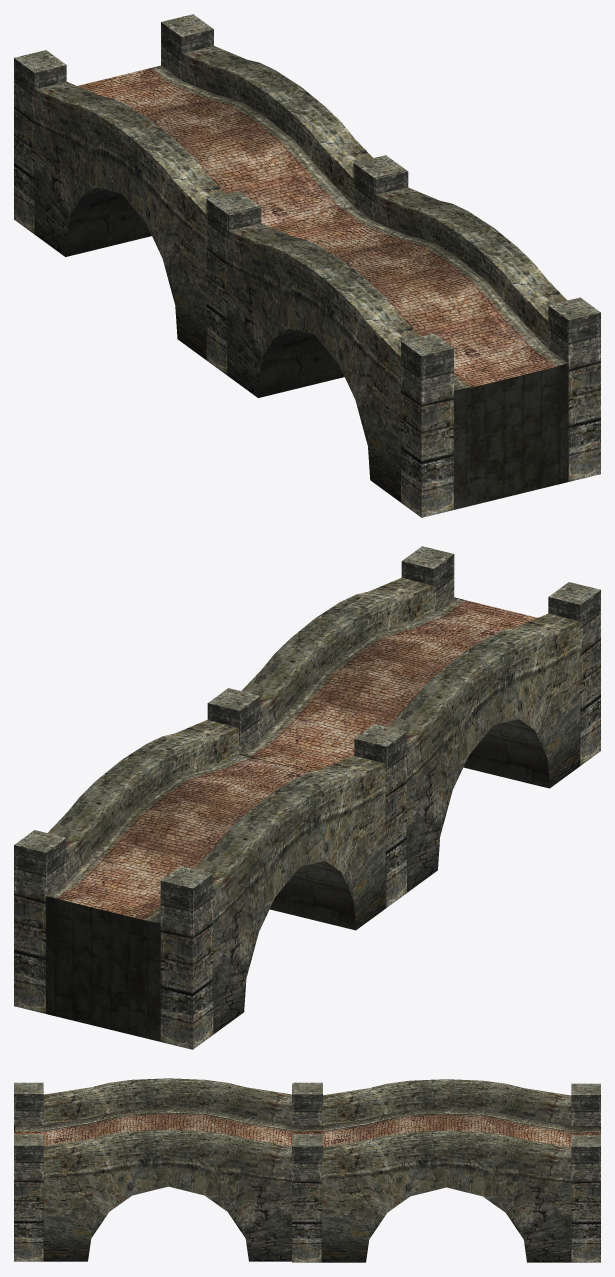
The model's file is bridge_04_small_LOD.fbx.
The picture shows the model from 3 angles, top to bottom: view 1: azimuth 30°, elevation 25°; view 2: azimuth 150°, elevation 25°; view 3: azimuth 270°, elevation 25°; orthographic projection. The views are drawn at different scales.
Parts seen in each view (by area): view 1: bridge_04_small; view 2: bridge_04_small; view 3: bridge_04_small.
Boxes of the visible parts, x1=… form: bridge_04_small: x1=14, y1=14, x2=600, y2=517; bridge_04_small: x1=14, y1=546, x2=600, y2=1049; bridge_04_small: x1=14, y1=1078, x2=600, y2=1262.
Bounding box in the file's own units: 455 × 407 × 1786.
